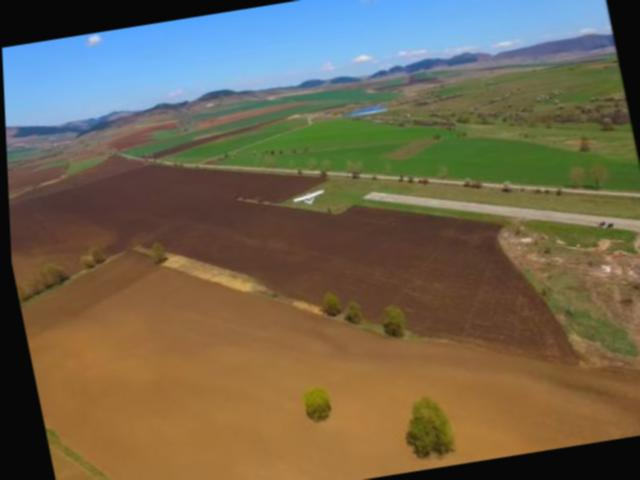uav: (282, 180, 330, 215)
